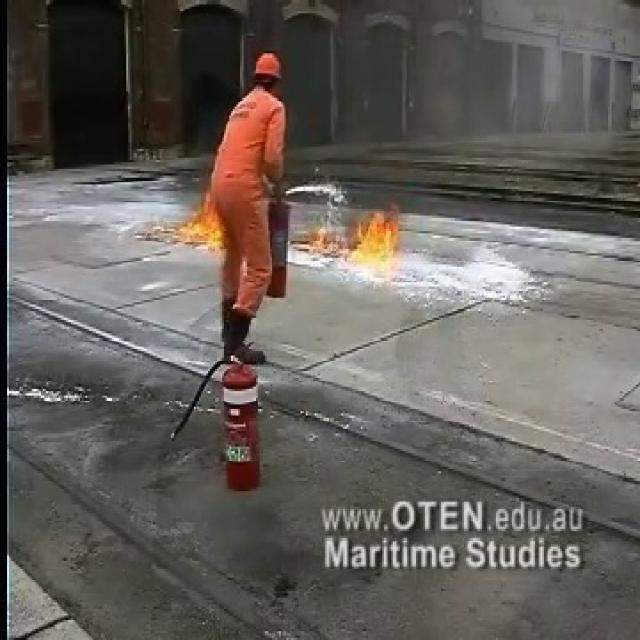Fire: (300, 197, 408, 279), (181, 184, 226, 252)
Smoke: (302, 0, 597, 173)
